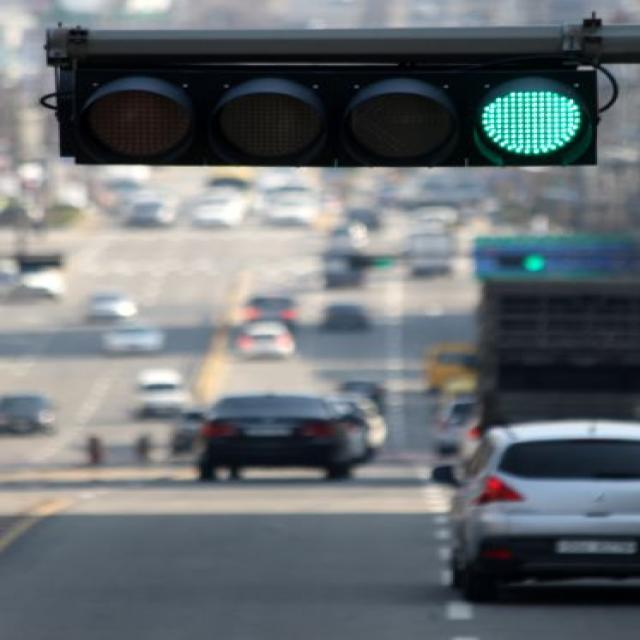Green Light: (464, 56, 593, 168), (372, 253, 396, 270), (522, 254, 546, 270)
